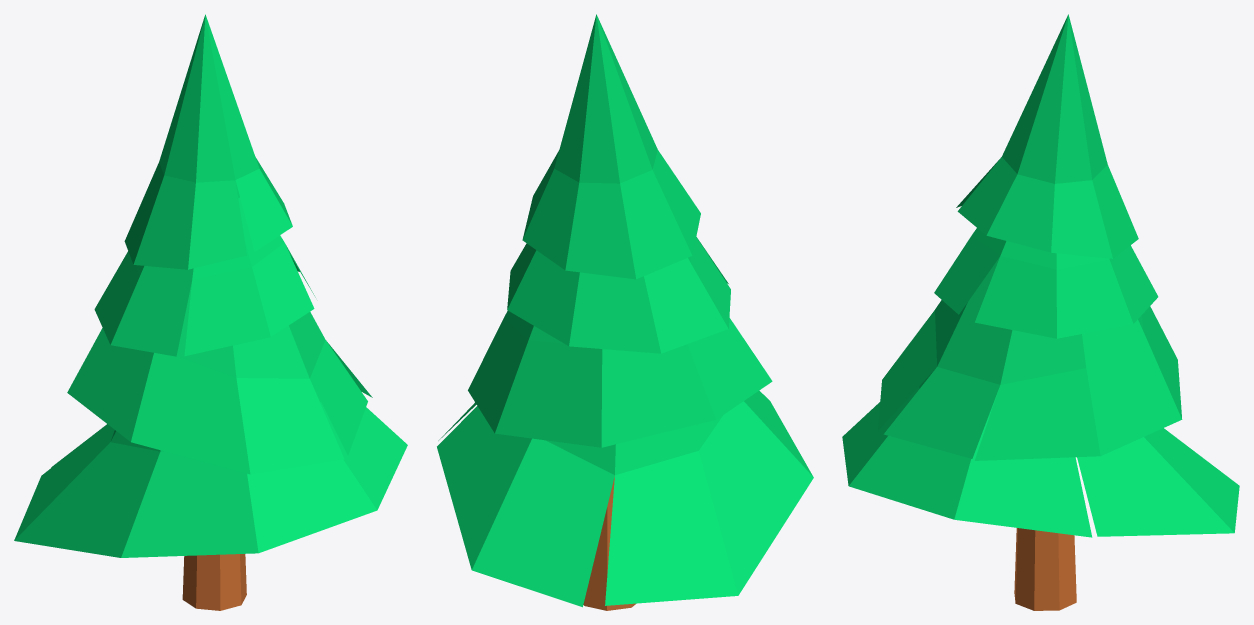
File: trees_6.fbx
The picture shows the model from 3 angles, left to right: view 1: azimuth 30°, elevation 25°; view 2: azimuth 150°, elevation 25°; view 3: azimuth 270°, elevation 25°; orthographic projection. The views are drawn at different scales.
Visible parts, largest first — view 1: 6; view 2: 6; view 3: 6.
Part boxes in pixels (left/top/right/bottom): 6: left=14, top=14, right=407, bottom=610; 6: left=437, top=14, right=813, bottom=610; 6: left=842, top=14, right=1239, bottom=610.
Size of the model in its own units: 3.2 by 5.65 by 3.48.
